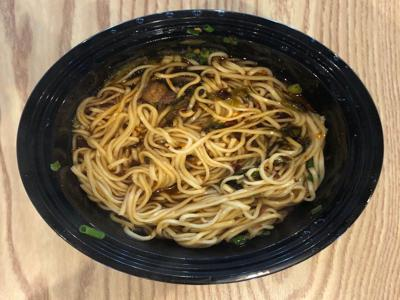nrm: (86, 51, 316, 245)
